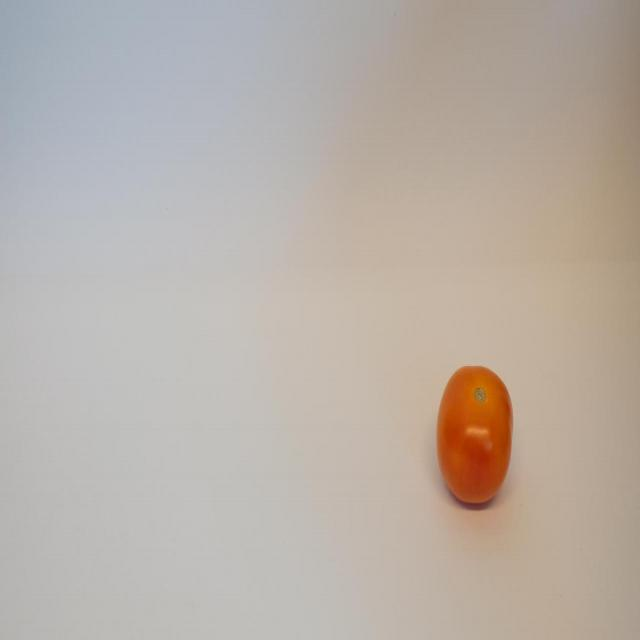tomato: (440, 356, 514, 510)
